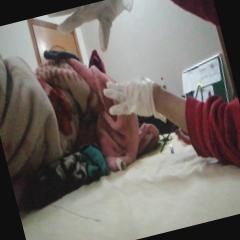gloved: (44, 0, 145, 65), (102, 70, 168, 134)
